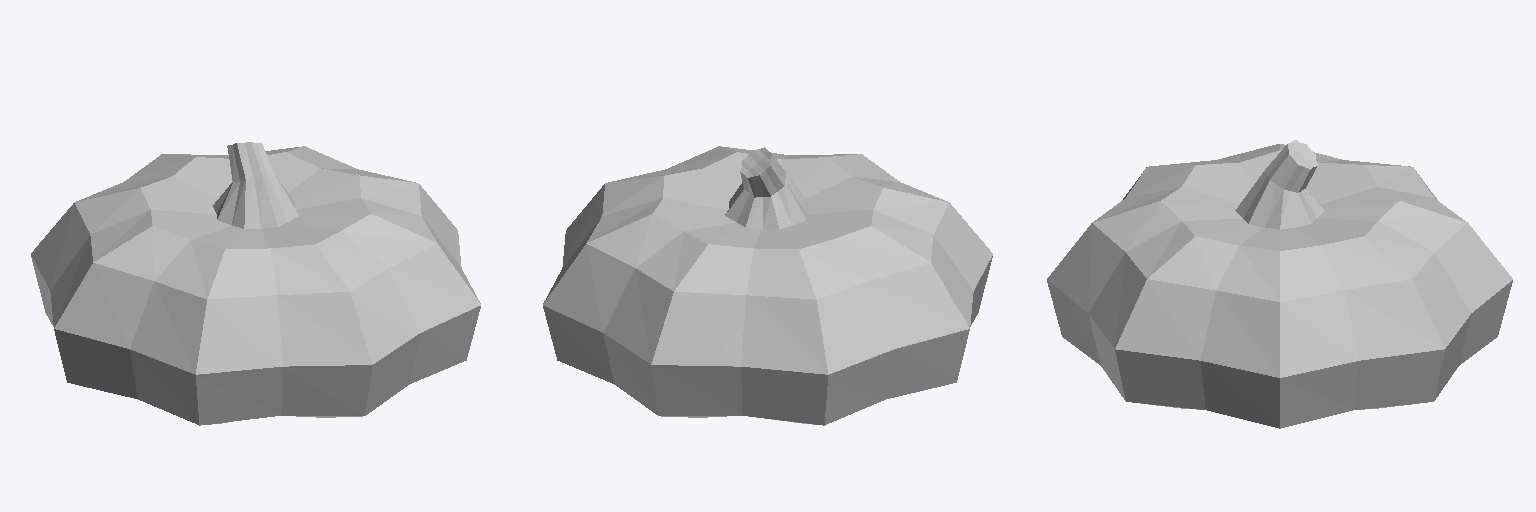
The model's file is misc020.obj.
3 views of the same model, side by side, from view 1: azimuth 30°, elevation 25°; view 2: azimuth 150°, elevation 25°; view 3: azimuth 270°, elevation 25° (orthographic).
Parts seen in each view (by area): view 1: misc020; view 2: misc020; view 3: misc020.
Boxes of the visible parts, x1,y1,x2,y2 form: misc020: [31, 142, 480, 425]; misc020: [543, 146, 992, 425]; misc020: [1047, 140, 1512, 428].
Size of the model in its own units: 0.016 by 0.0085 by 0.016.